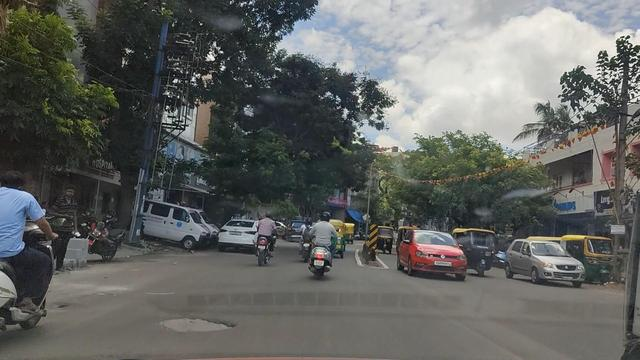LMV: (0, 172, 62, 335), (300, 211, 340, 284), (255, 215, 278, 267)
RoadDamages: (59, 278, 169, 319), (143, 297, 234, 339)
